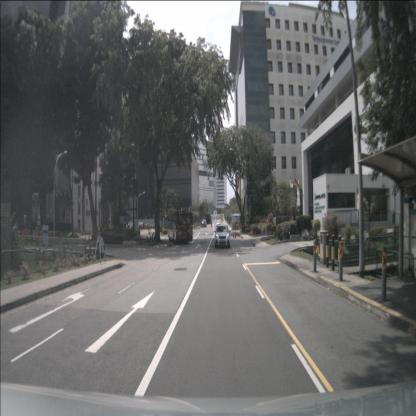vehicle-bus-rigid: (167, 211, 193, 243)
vehicle-car: (214, 225, 231, 248), (201, 219, 207, 228), (139, 223, 144, 230), (216, 220, 220, 228)
vehicle-truck: (206, 214, 211, 224)
